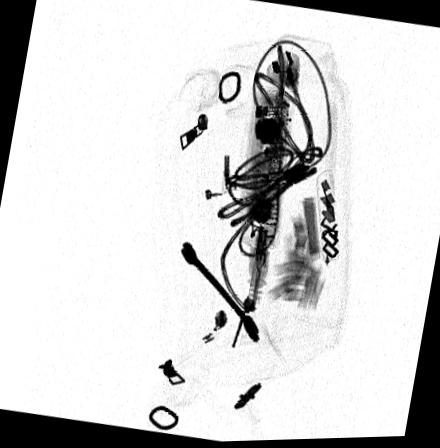Wrench: (178, 240, 261, 347)
